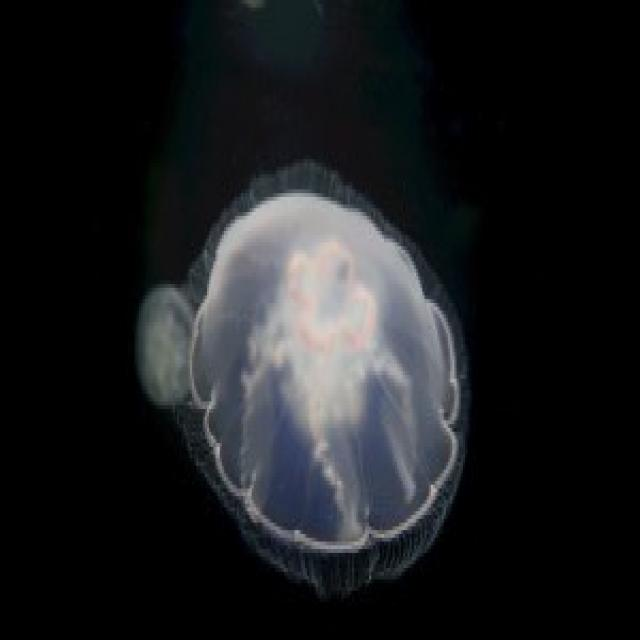Jellyfish: (169, 162, 473, 610)
